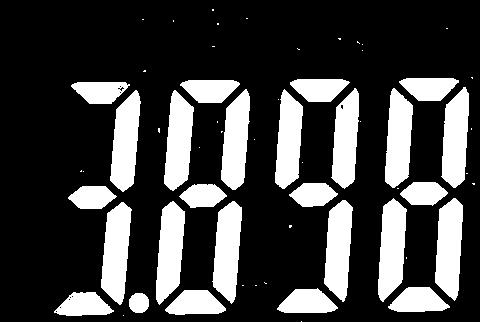3: (49, 77, 146, 317)
8: (154, 74, 254, 316), (375, 78, 471, 313)
9: (268, 76, 363, 318)
dot: (127, 290, 152, 316)
